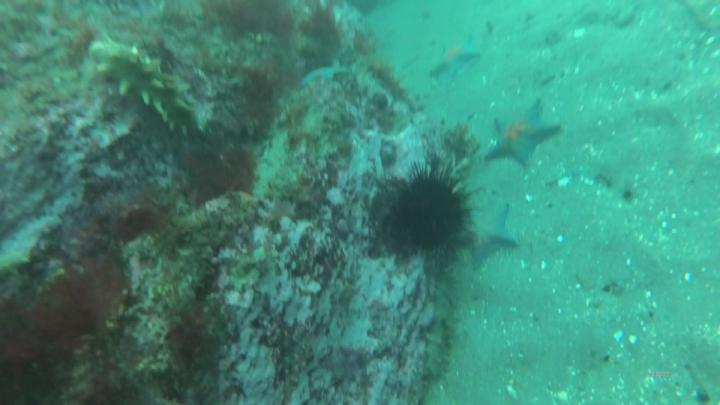echinus: (379, 153, 473, 258)
holothurian: (85, 37, 202, 137)
starfish: (481, 98, 564, 171), (464, 204, 522, 265), (427, 39, 481, 81), (301, 65, 351, 87)
